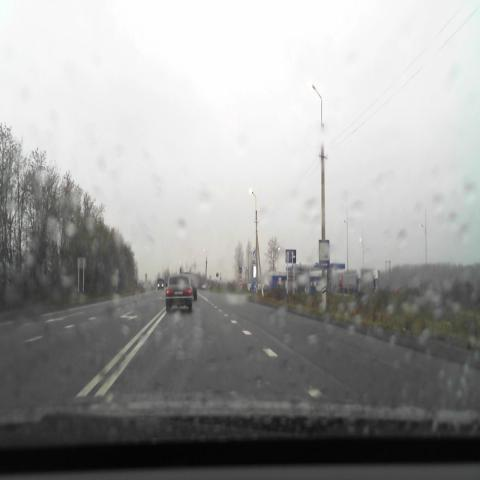7_3: (319, 239, 330, 268)
